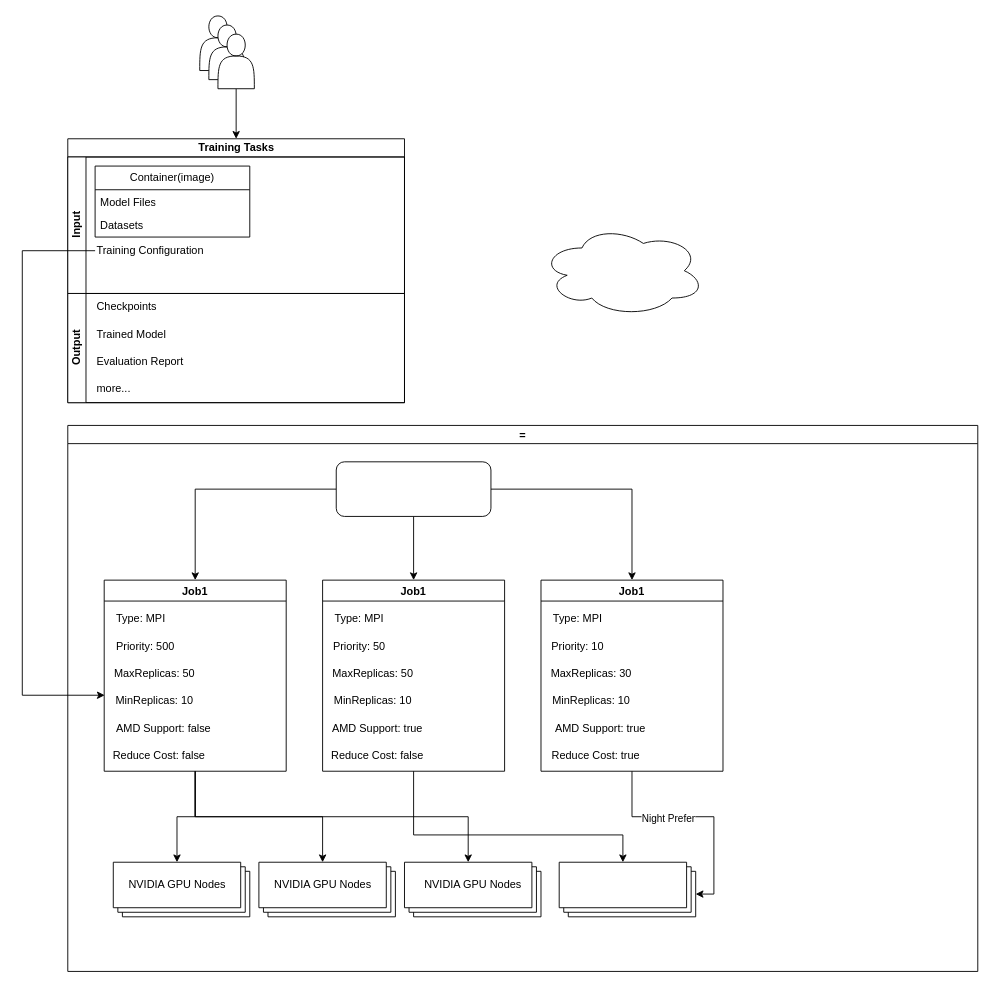
The diagram is 994 pixels wide and 987 high, and some of its shapes have lost their labels. Here are the shapes that lost their labels. From the top down, the centre of each, then its label:
(235,61): Users
(622,270): Cloud Storage
(413,488): AI Workload Scheduler
(627,889): AMD GPU Nodes
